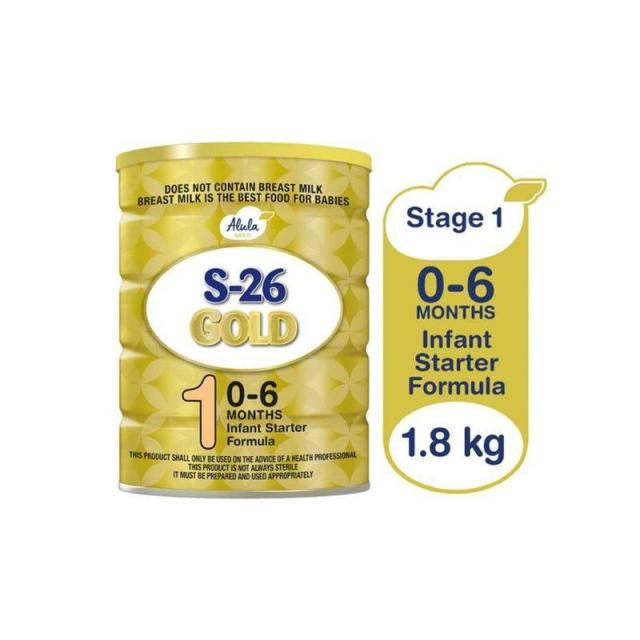formula-milk: (130, 153, 378, 492), (387, 197, 528, 483)
